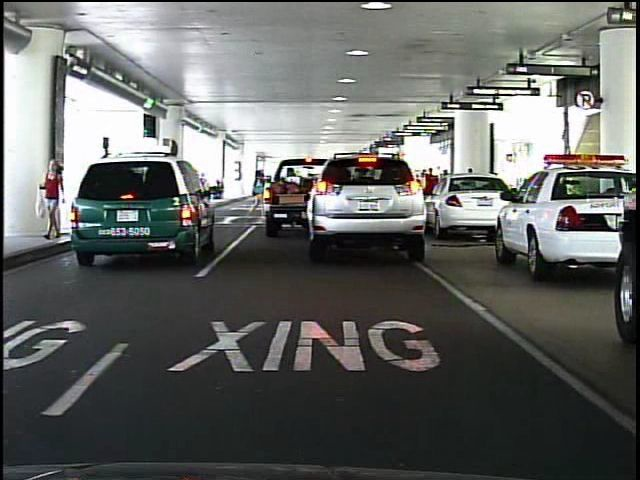person: (44, 153, 69, 242), (246, 168, 270, 224)
